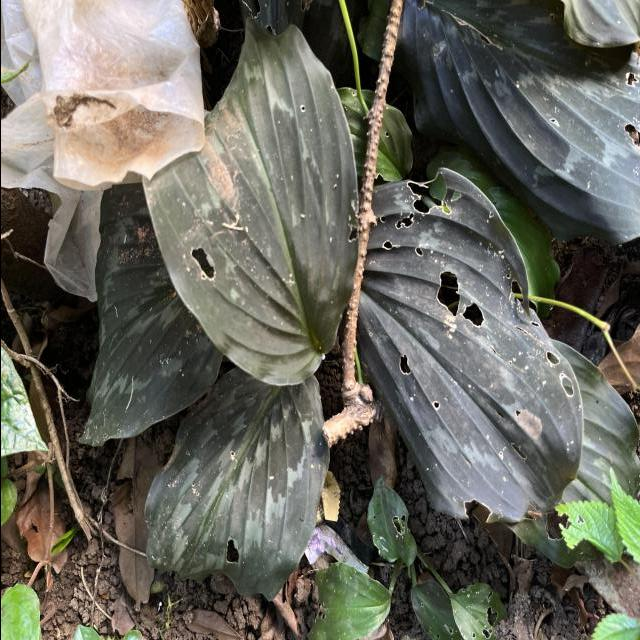Kaempferia galanga linn: (140, 364, 331, 605), (72, 180, 224, 449)
